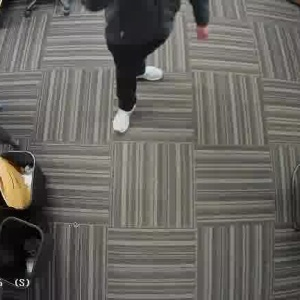person: (101, 0, 189, 135)
